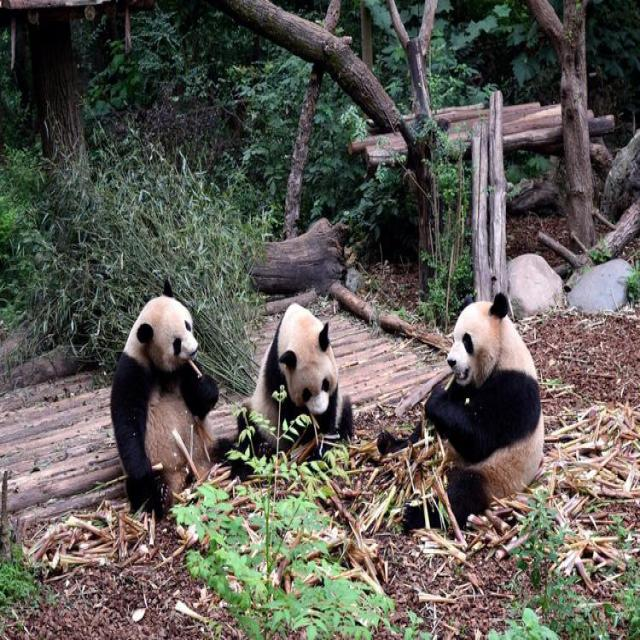panda: (401, 279, 558, 526), (97, 274, 227, 515), (245, 273, 369, 487)
